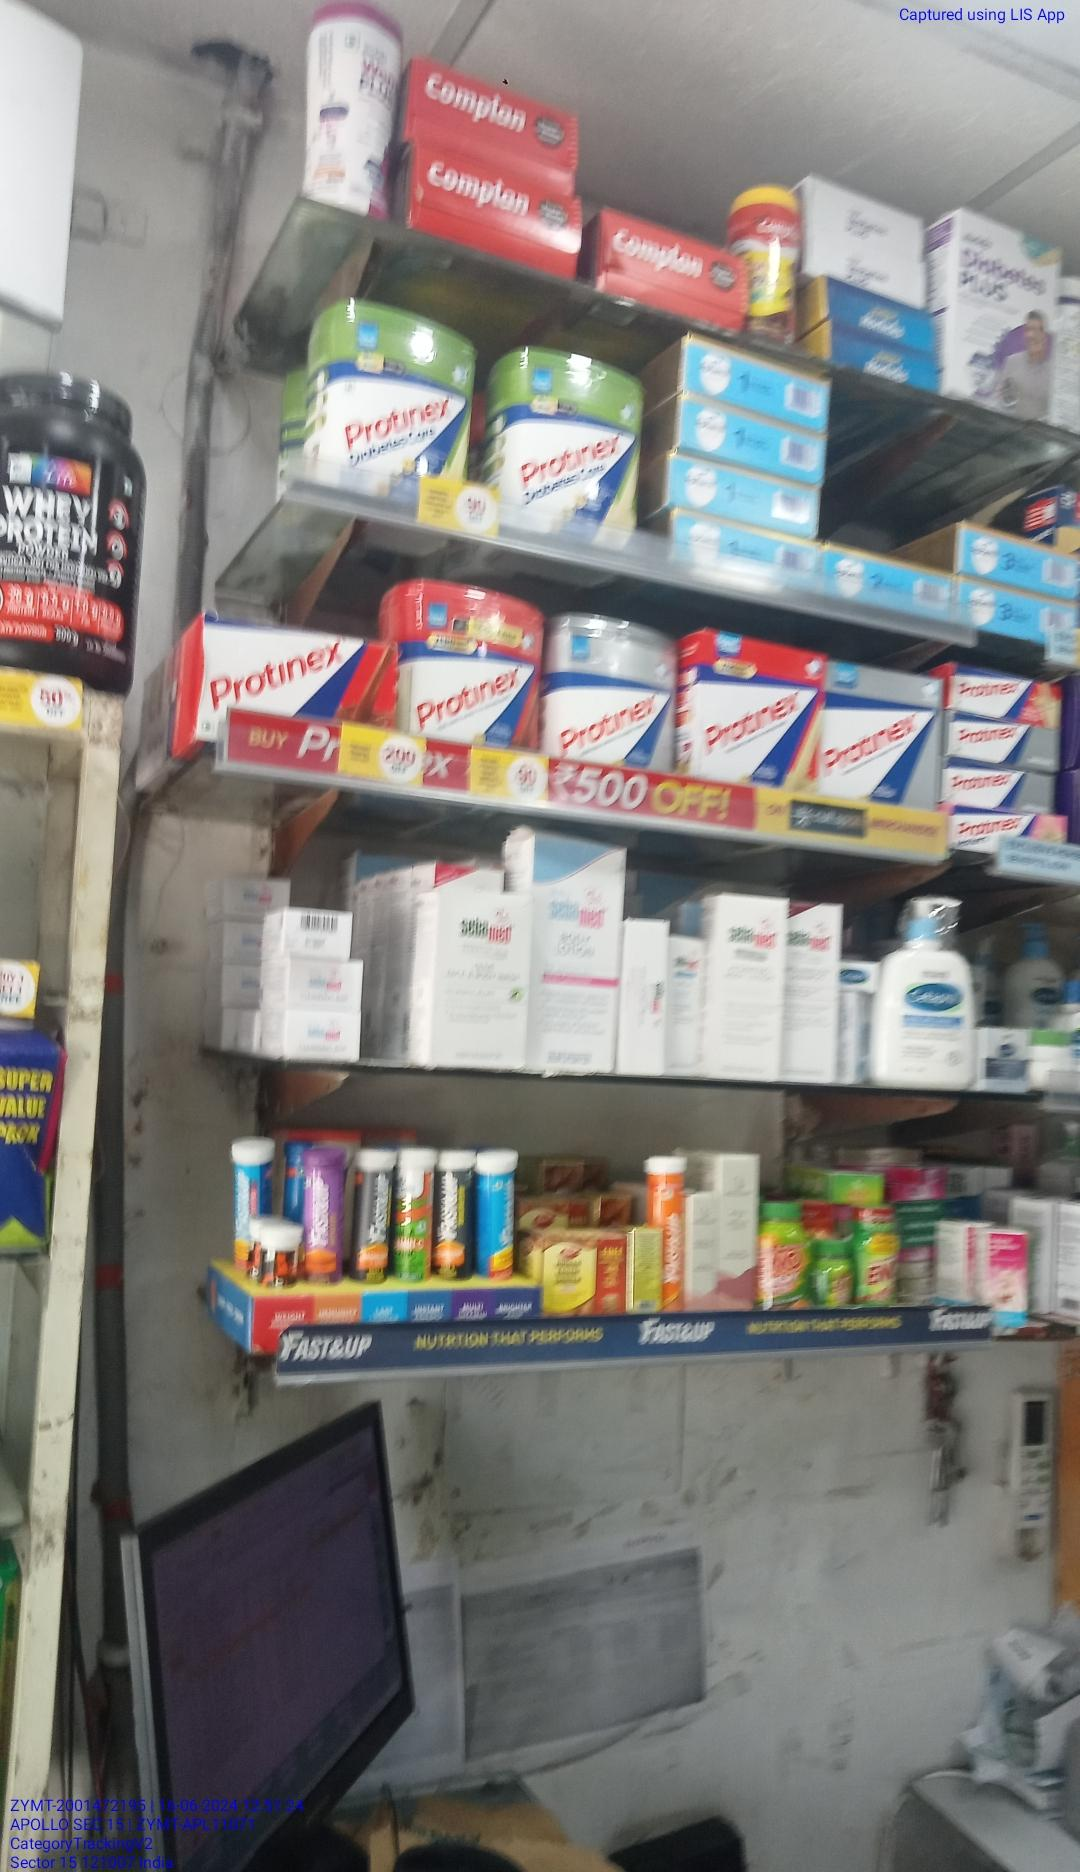PROTINEX_CHOCOLATE_400_G_JAR: (400, 602, 541, 762)
PROTINEX_ORIGINAL_400_G_JAR: (546, 612, 680, 766)
